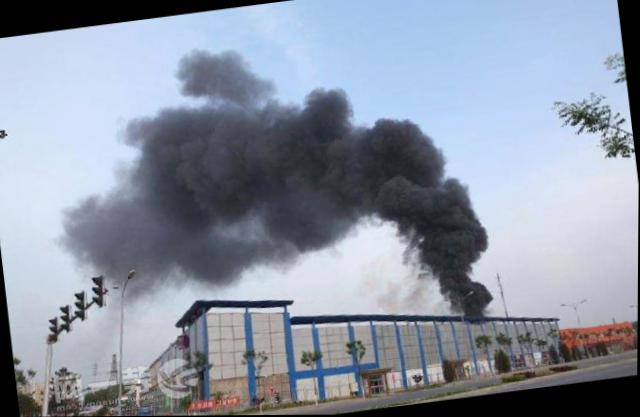smoke: (117, 102, 253, 297), (234, 88, 359, 256), (417, 174, 510, 322), (345, 113, 429, 229), (54, 185, 136, 301), (170, 26, 281, 107)
